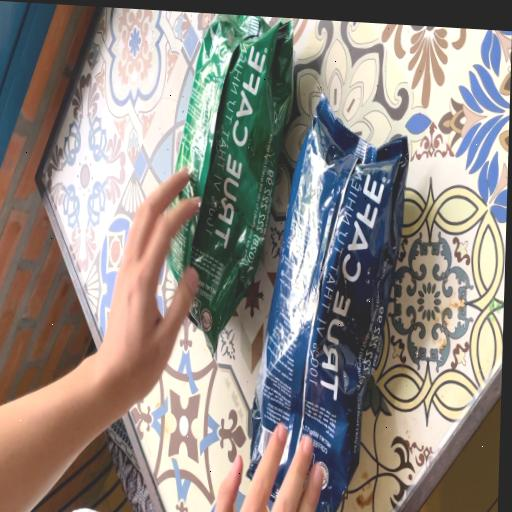cafe_hat: (247, 95, 408, 512)
cafe_xay: (167, 13, 293, 353)
